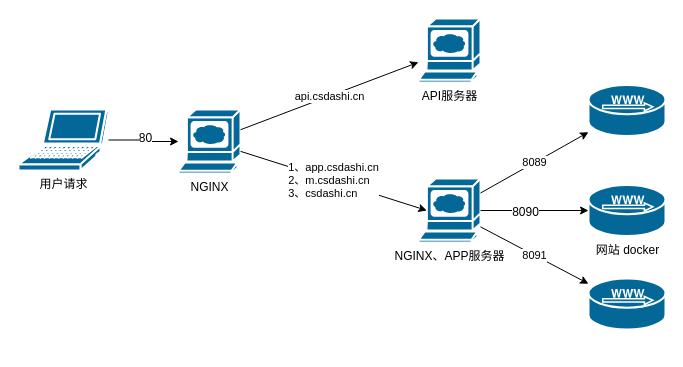
Image size: 683x367. Some labels were removed from this diagram. Here are the shapes that lost their labels. From the top down, the centre of each, then its label:
the point at 626,110: APP docker
the point at 626,303: 回调 docker
